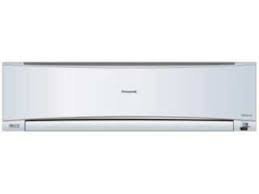ac: (1, 57, 259, 135)
